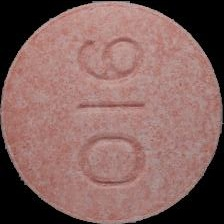63629-3376: (0, 0, 224, 224)
